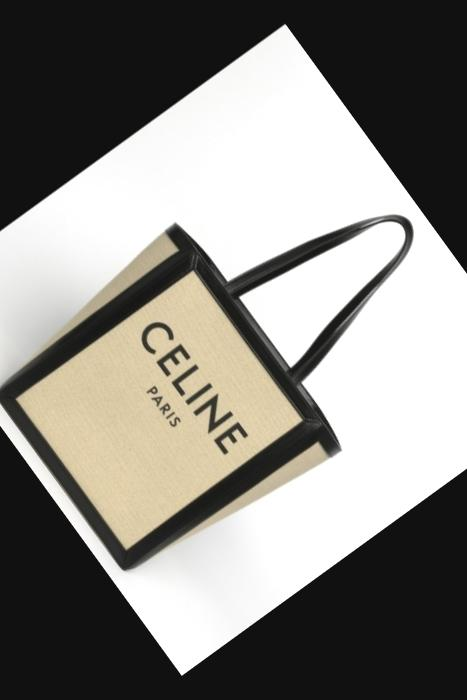CELINE: (134, 316, 251, 458)
